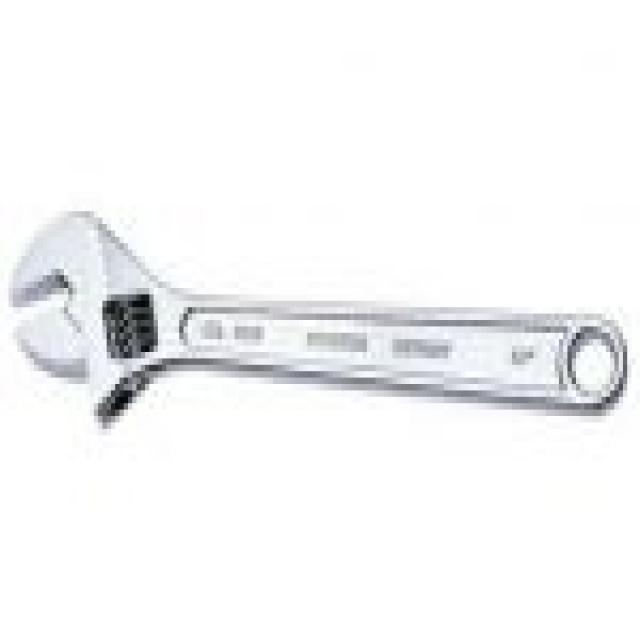wrench: (0, 198, 635, 446)
